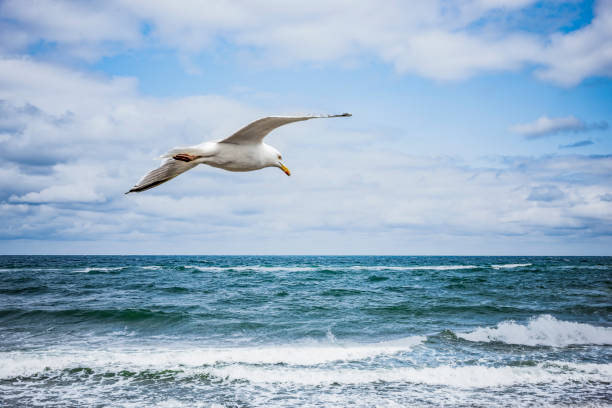Bird: (117, 108, 353, 195)
